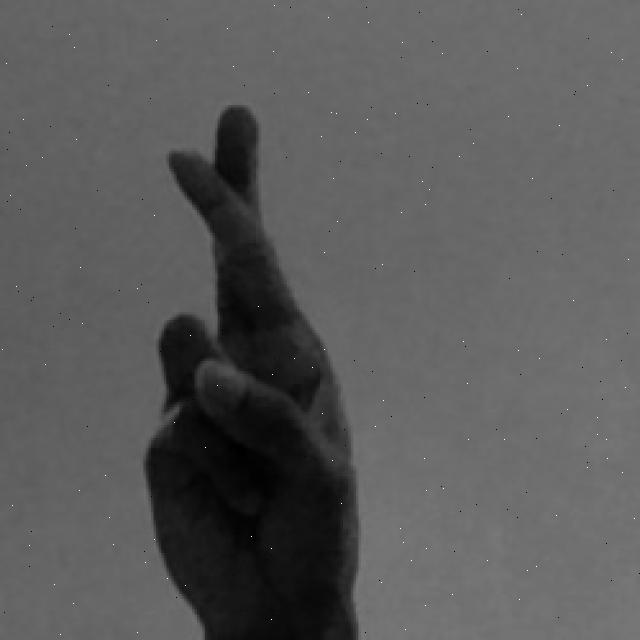R: (138, 100, 366, 640)
